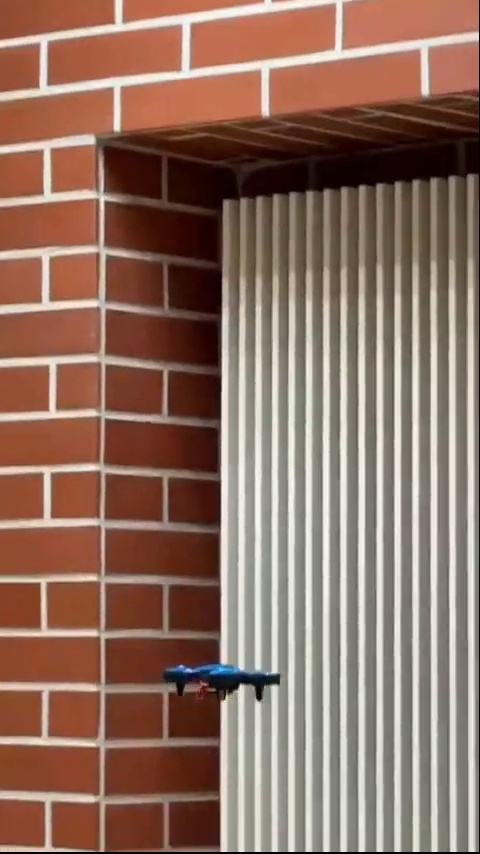drone: (164, 652, 277, 711)
